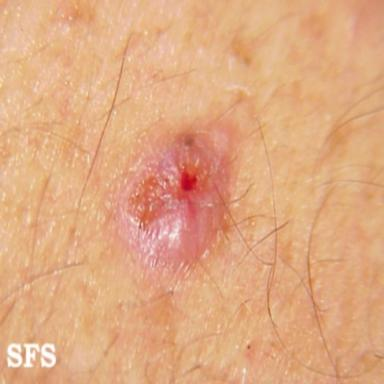basal-cell-carcinoma: (118, 116, 237, 278)
